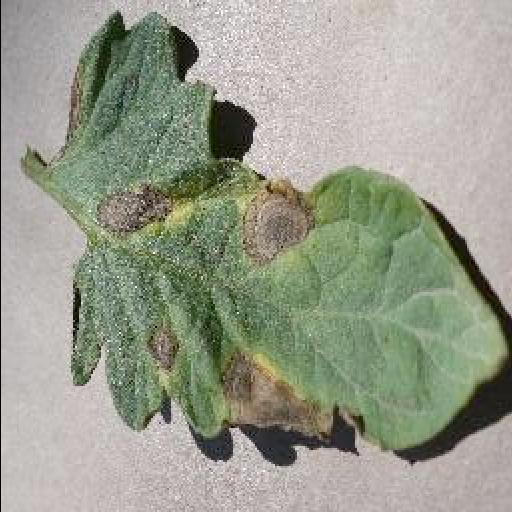disease_tomato: (51, 10, 505, 444)
